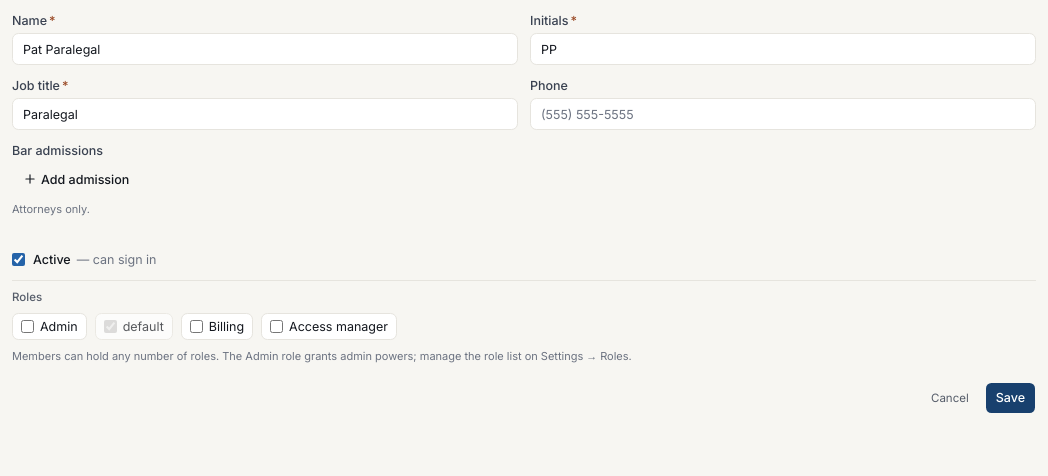
Test case: MemberEditForm › renders the concurrent-edit (_form) error instead of failing silently
This screenshot has width=1048, height=476.
Click the button "Save": (1010, 398) [985,382,1036,414]
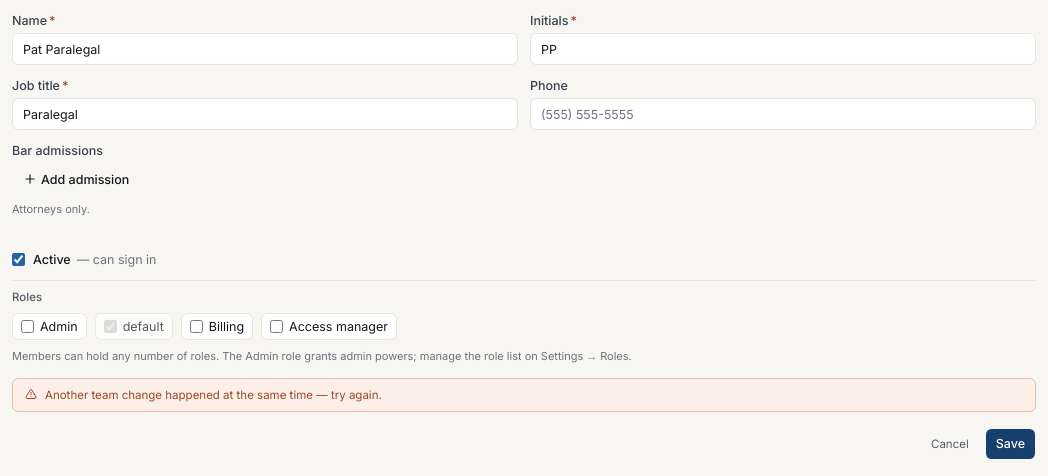
Result: the text "Another team change happened at the same time — try again." is shown at [45,387,382,403]
